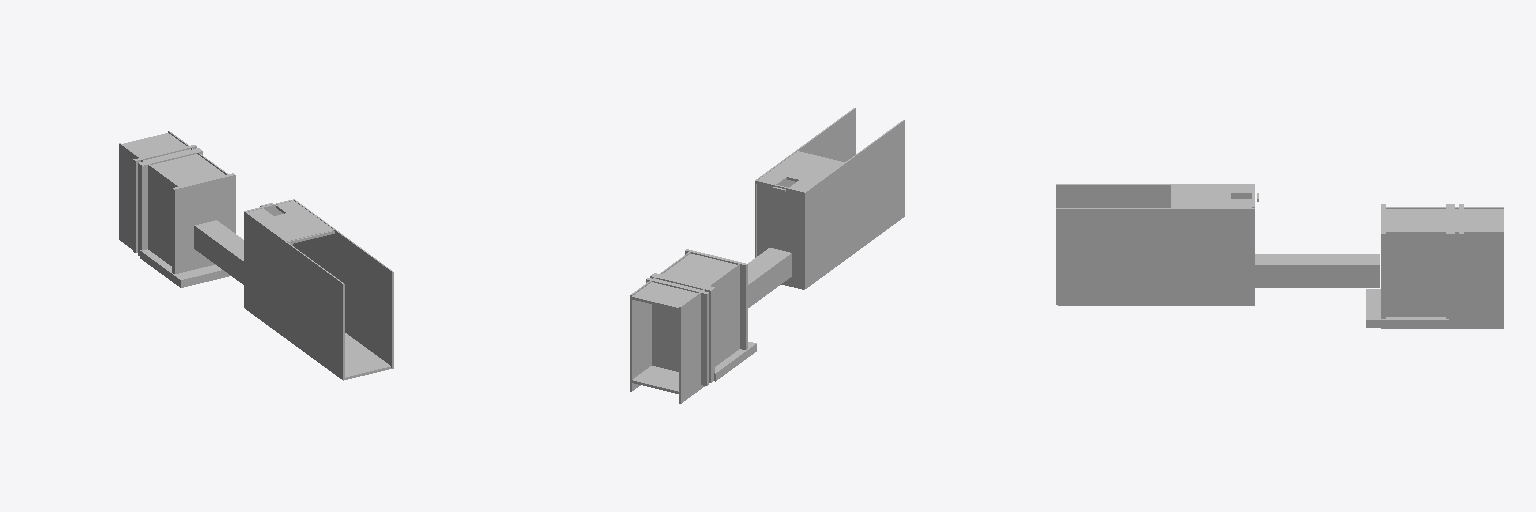
Rendered from room.obj.
3 renders of one model, left to right at view 1: azimuth 30°, elevation 25°; view 2: azimuth 150°, elevation 25°; view 3: azimuth 270°, elevation 25°, orthographic.
Parts seen in each view (by area): view 1: obj_7, obj_9, obj_6, obj_3, obj_5, obj_4; view 2: obj_7, obj_9, obj_2, obj_4, obj_3, obj_6, obj_5; view 3: obj_7, obj_9, obj_3, obj_5, obj_4, obj_6.
Part boxes in pixels (x1,y1,x2,y2): obj_7: (244, 199, 393, 380); obj_9: (119, 131, 230, 287); obj_6: (172, 173, 235, 273); obj_3: (194, 220, 243, 284); obj_5: (138, 148, 202, 255); obj_4: (133, 145, 196, 252); obj_7: (755, 108, 904, 289); obj_9: (630, 252, 756, 403); obj_2: (757, 180, 804, 288); obj_4: (646, 278, 708, 385); obj_3: (748, 248, 791, 307); obj_6: (685, 249, 747, 349); obj_5: (650, 273, 714, 382); obj_7: (1056, 184, 1254, 305); obj_9: (1366, 207, 1503, 328); obj_3: (1255, 254, 1379, 287); obj_5: (1446, 204, 1454, 325); obj_4: (1459, 204, 1463, 325); obj_6: (1381, 204, 1385, 318).
Bounding box in the file's own units: 152 × 273 × 924.